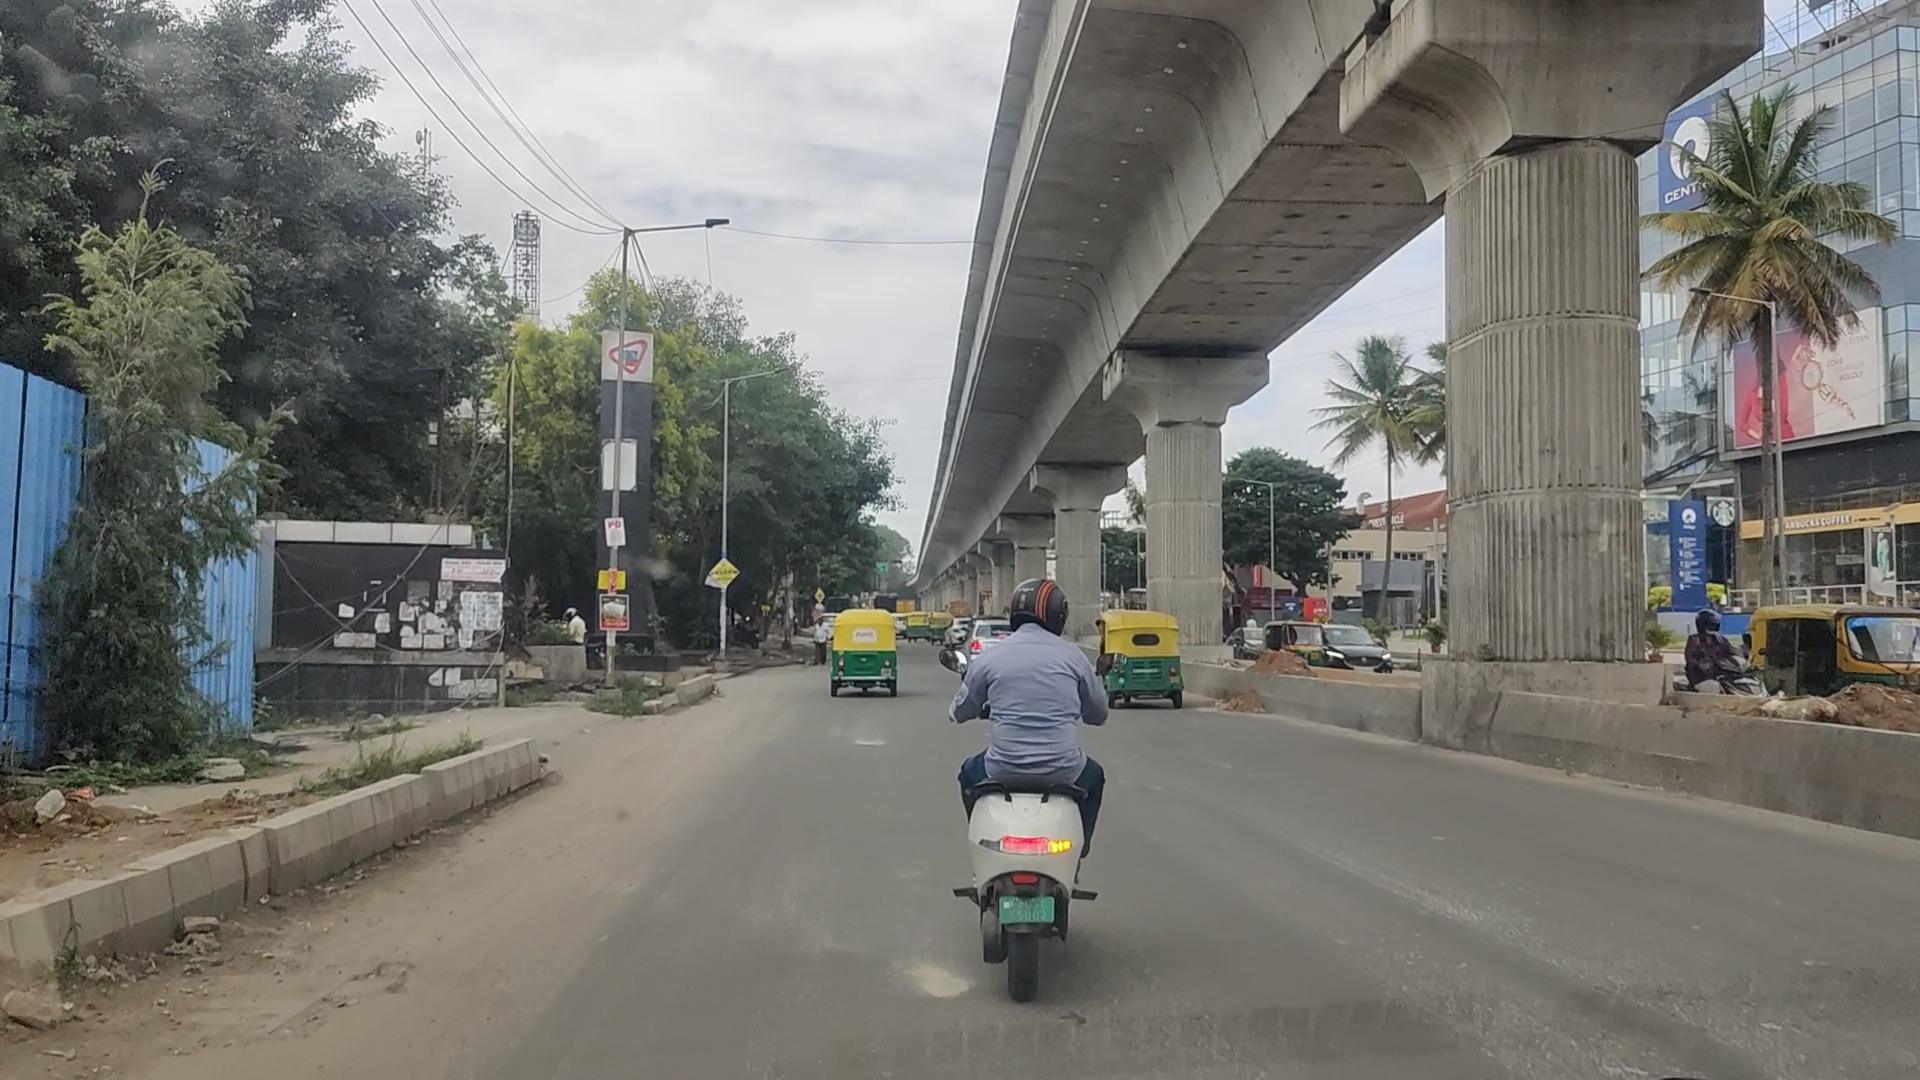LMV: (936, 560, 1112, 1015), (1102, 605, 1187, 713), (825, 609, 907, 695)
